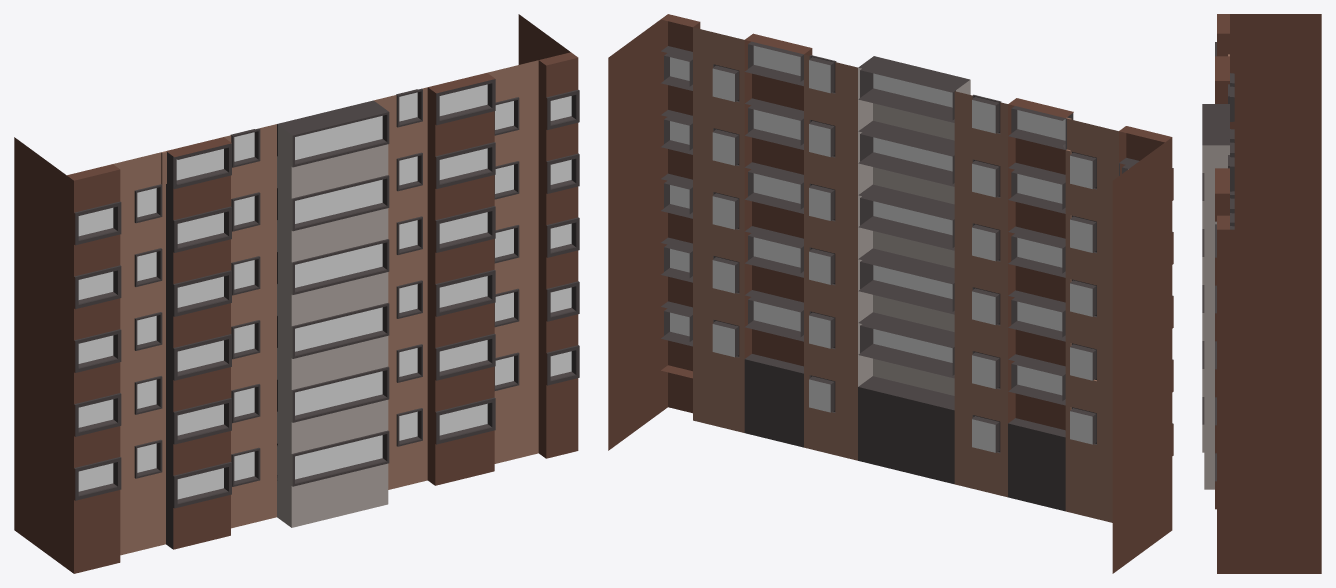
The model's file is RectangleBuildings_1v1.fbx.
3 views of the same model, side by side, from view 1: azimuth 30°, elevation 25°; view 2: azimuth 150°, elevation 25°; view 3: azimuth 270°, elevation 25° (orthographic). The views are drawn at different scales.
Visible parts, largest first — view 1: FrontProfileBuildings_1; view 2: FrontProfileBuildings_1; view 3: FrontProfileBuildings_1.
Part boxes in pixels (bbox=[...]): FrontProfileBuildings_1: bbox=[14, 14, 579, 573]; FrontProfileBuildings_1: bbox=[608, 14, 1173, 573]; FrontProfileBuildings_1: bbox=[1202, 14, 1321, 573].
Size of the model in its own units: 139 by 104 by 32.56.
